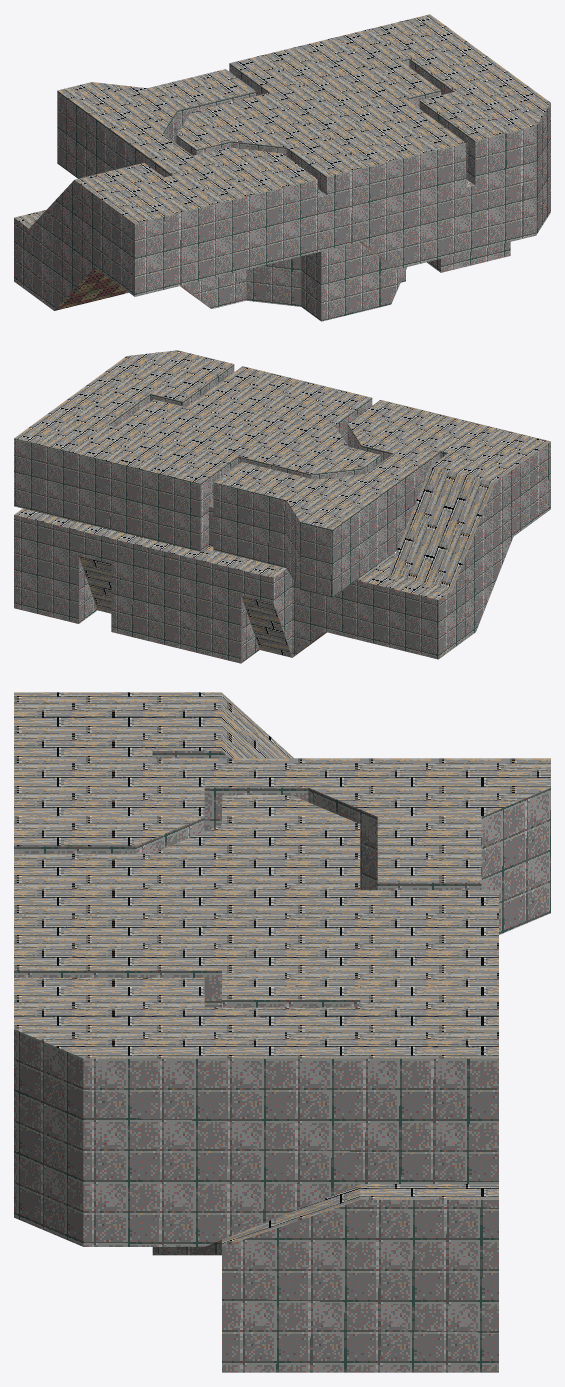
Rendered from level.glb.
3 views of the same model, one above another, from view 1: azimuth 30°, elevation 25°; view 2: azimuth 150°, elevation 25°; view 3: azimuth 270°, elevation 25° (orthographic). The views are drawn at different scales.
Parts seen in each view (by area): view 1: Level; view 2: Level; view 3: Level.
Boxes of the visible parts, x1,y1,x2,y2 form: Level: (14,14,550,321); Level: (14,350,550,663); Level: (14,692,550,1372).
Size of the model in its own units: 15 by 6 by 9.3.
3 materials, 3 textured.
